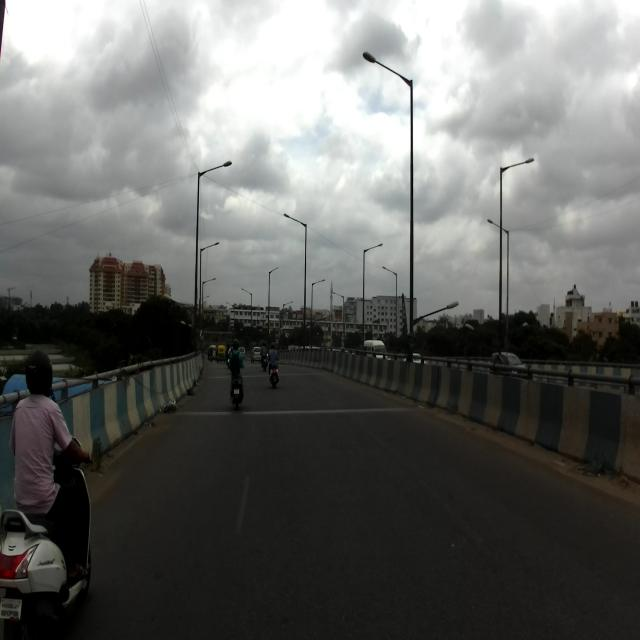scooter: (0, 436, 92, 640)
